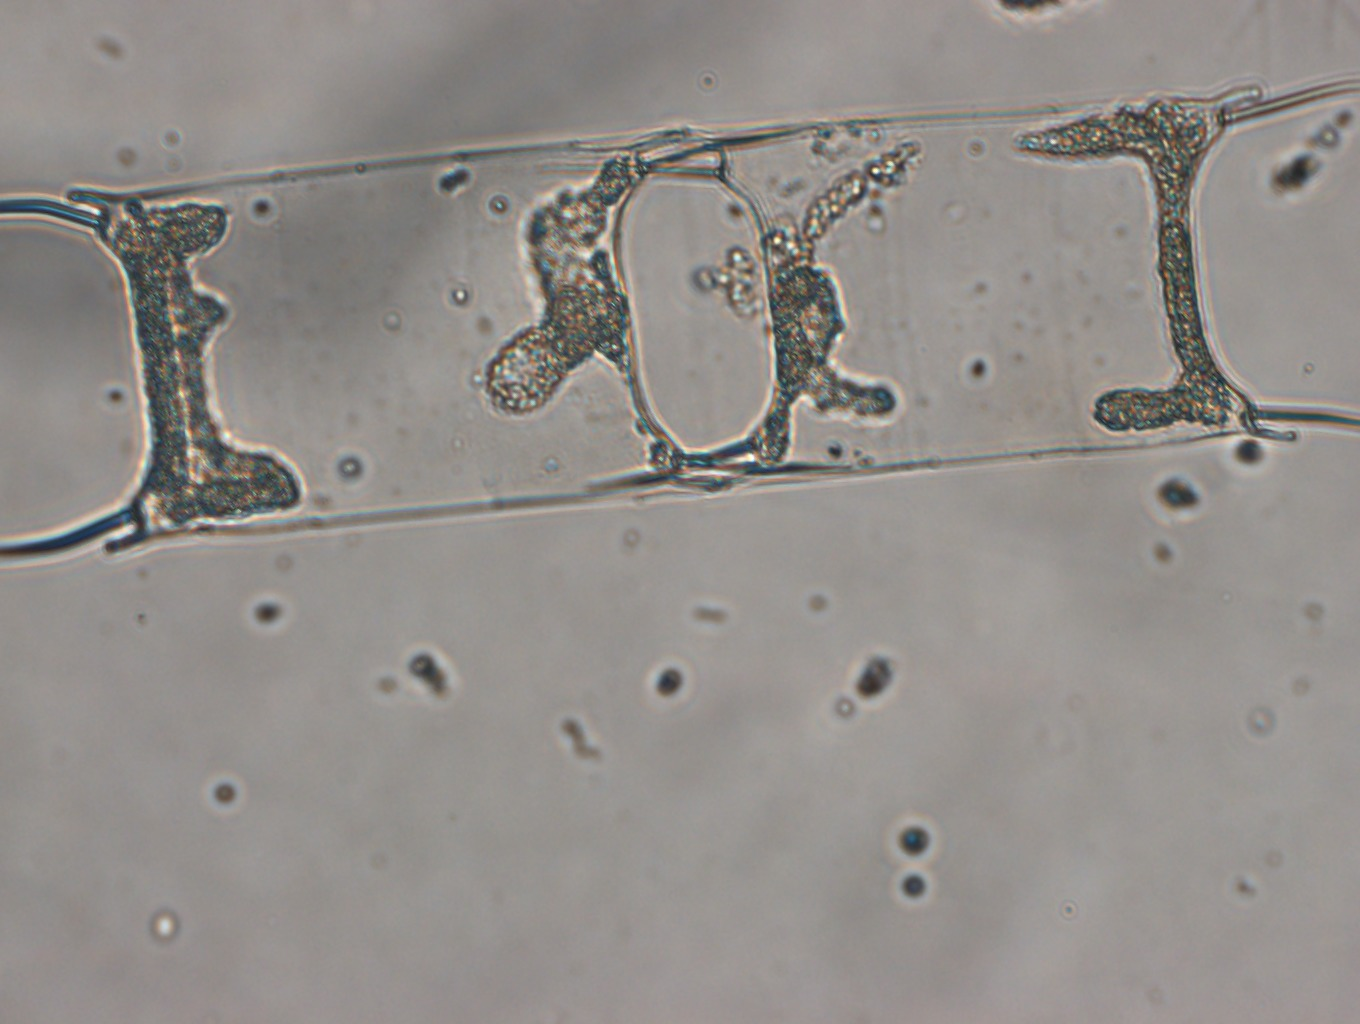biddulphia: (1, 73, 1360, 564)
